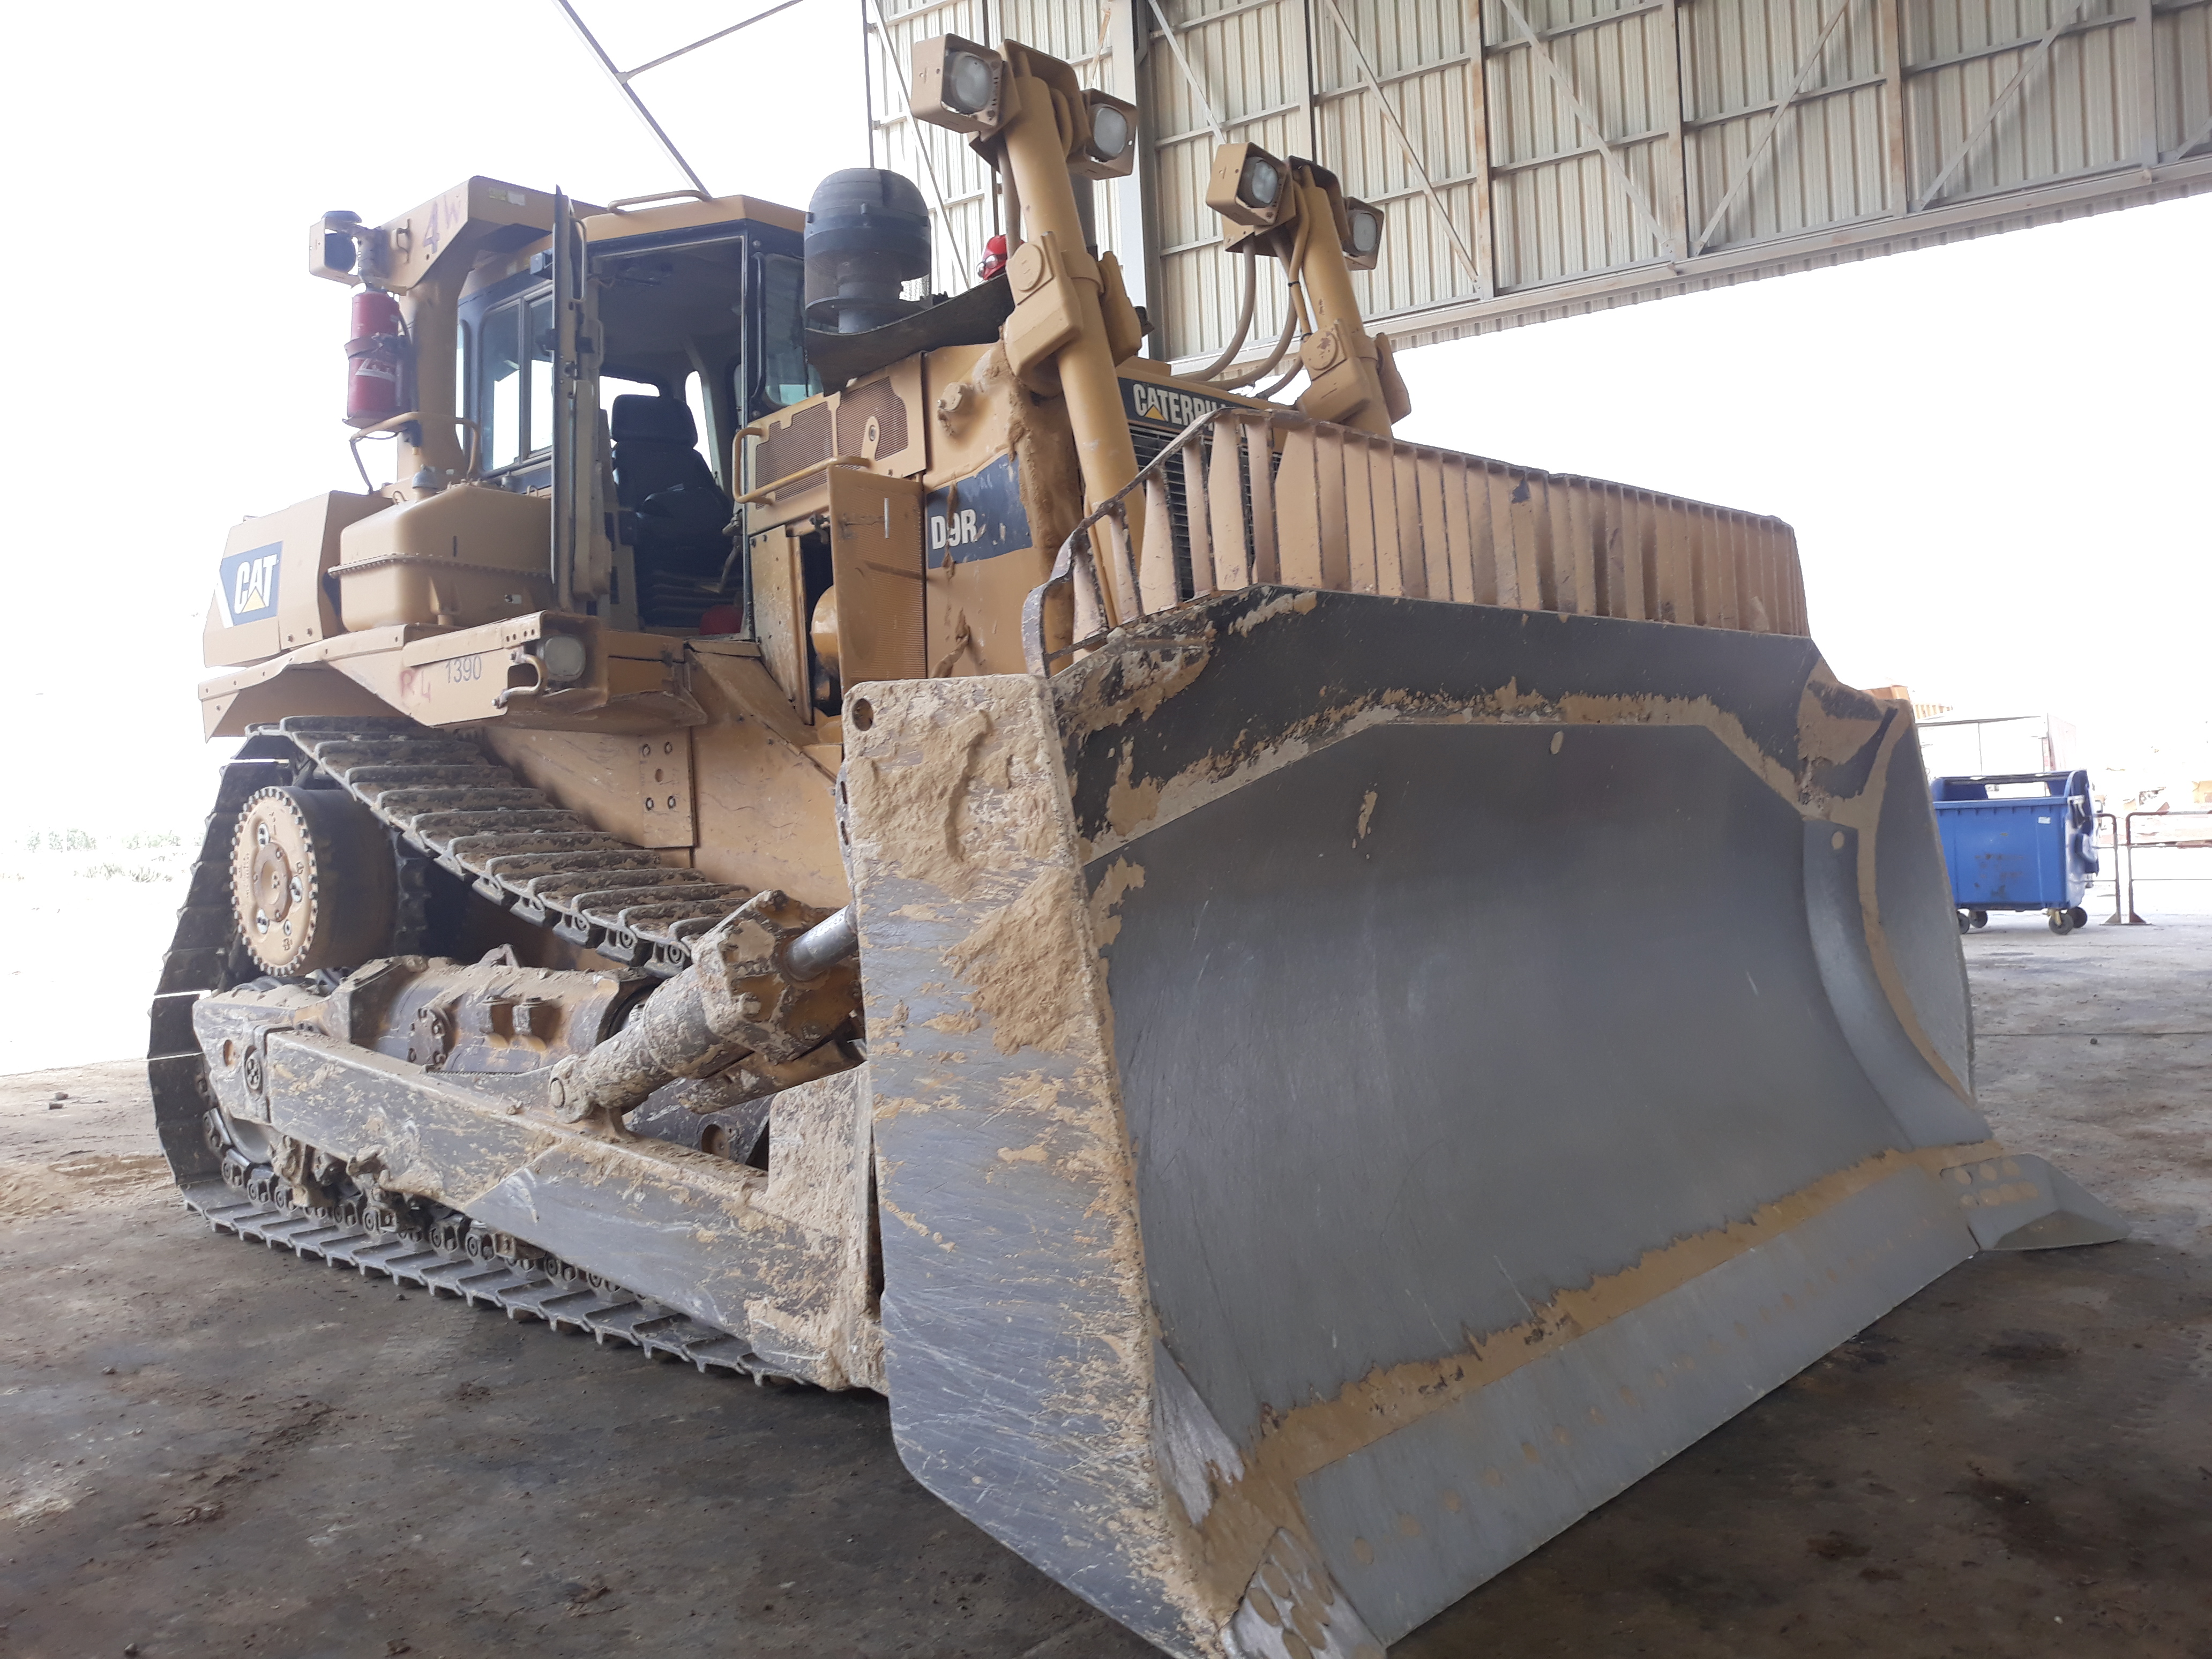bulldozer: (150, 9, 2172, 1642)
